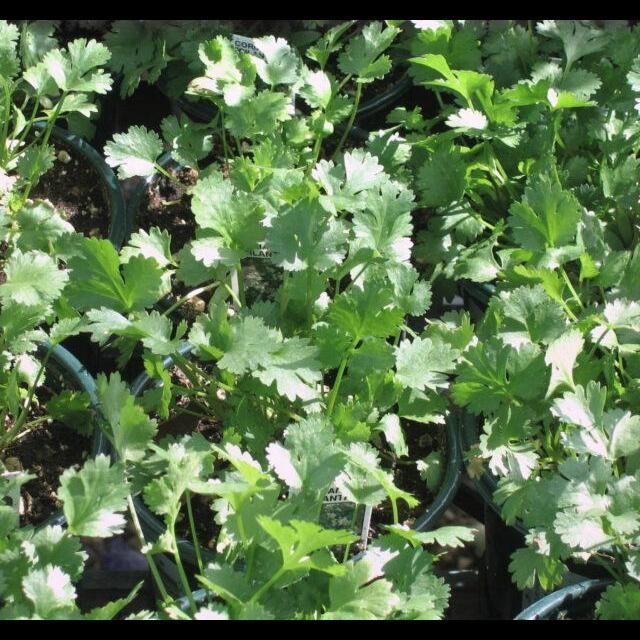cilantro: (0, 20, 640, 618), (201, 124, 456, 577)
